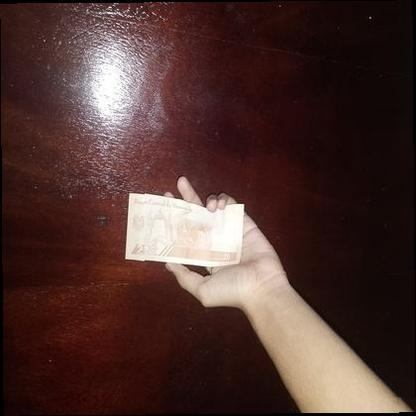twenty-back-vef: (125, 192, 244, 267)
